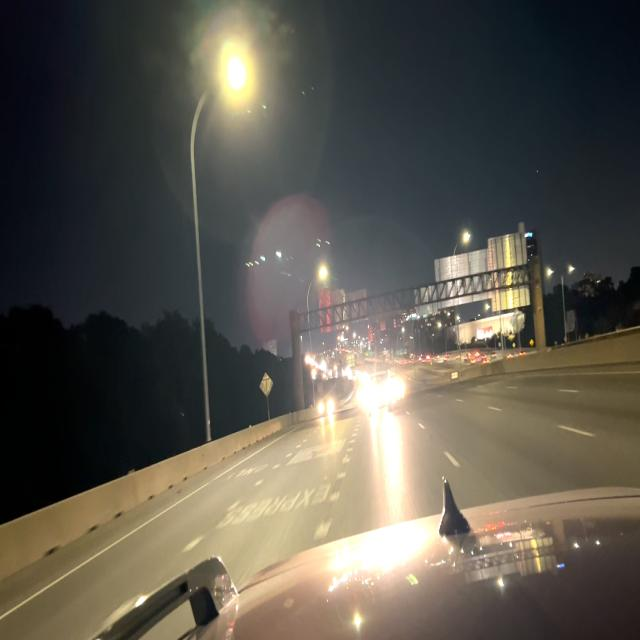back-of-sign: (412, 223, 531, 313), (319, 286, 370, 332), (258, 369, 274, 398)
